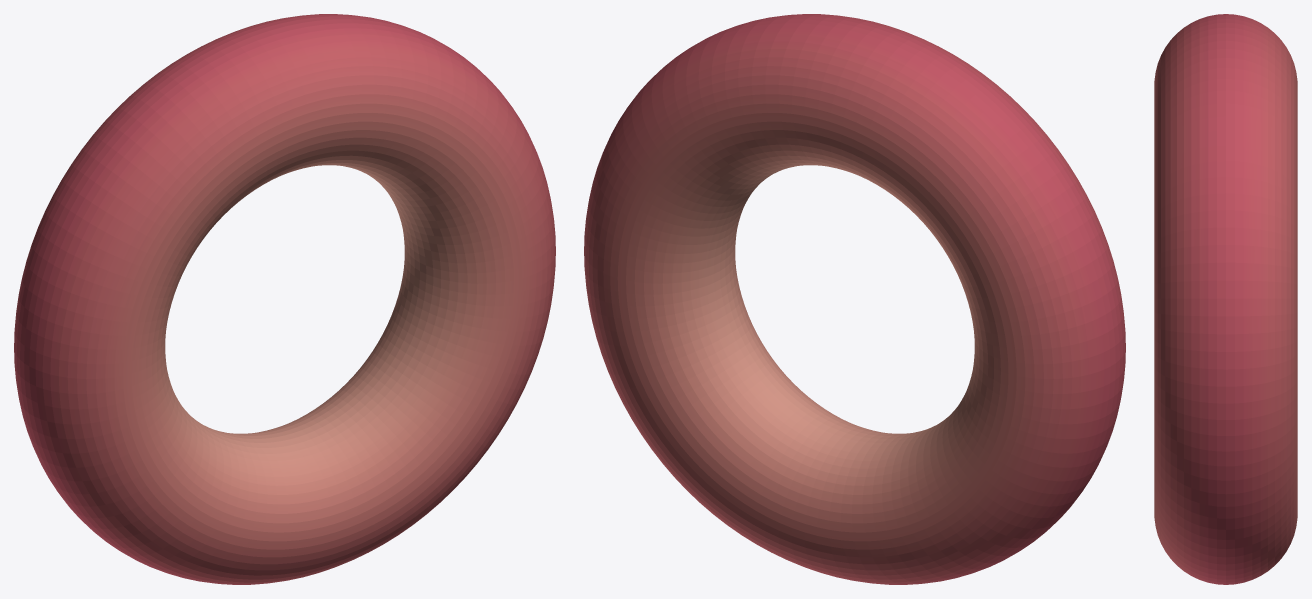
3 views of the same model, side by side, from view 1: azimuth 30°, elevation 25°; view 2: azimuth 150°, elevation 25°; view 3: azimuth 270°, elevation 25° (orthographic). The views are drawn at different scales.
Parts seen in each view (by area): view 1: world; view 2: world; view 3: world.
Boxes of the visible parts, left/top/right/bottom form: world: left=14, top=14, right=555, bottom=584; world: left=584, top=14, right=1125, bottom=584; world: left=1154, top=14, right=1297, bottom=584.
Size of the model in its own units: 30.27 by 30.27 by 7.59.
